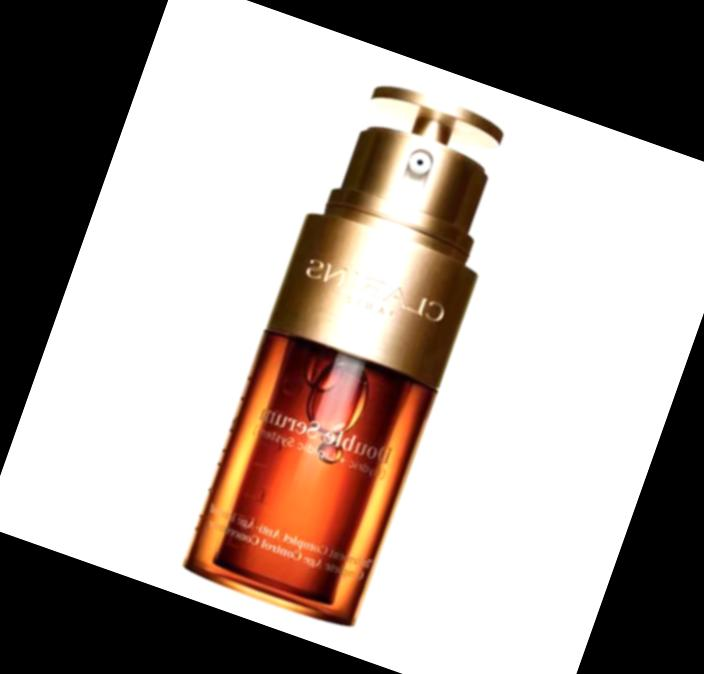cosmetic: (179, 62, 538, 629)
